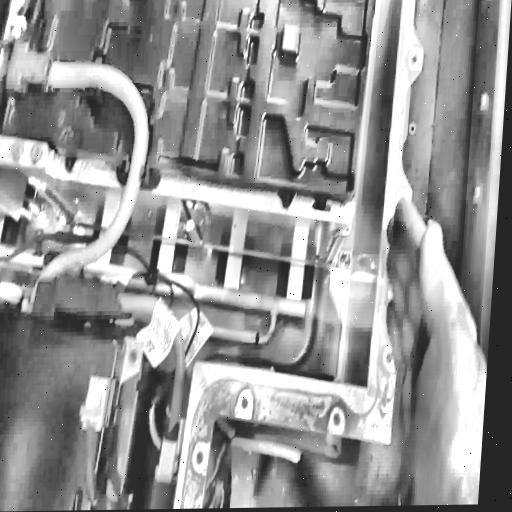high_volt_cable: (25, 60, 157, 301)
low_volt_cable: (0, 209, 211, 392)
